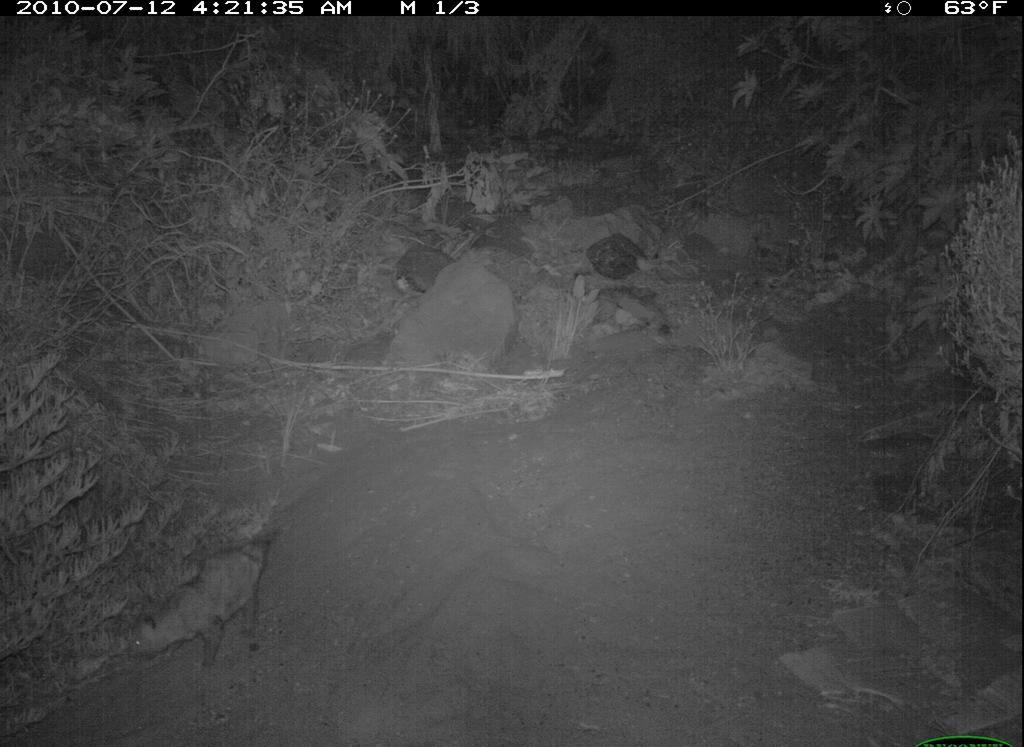opossum: (117, 524, 289, 674)
